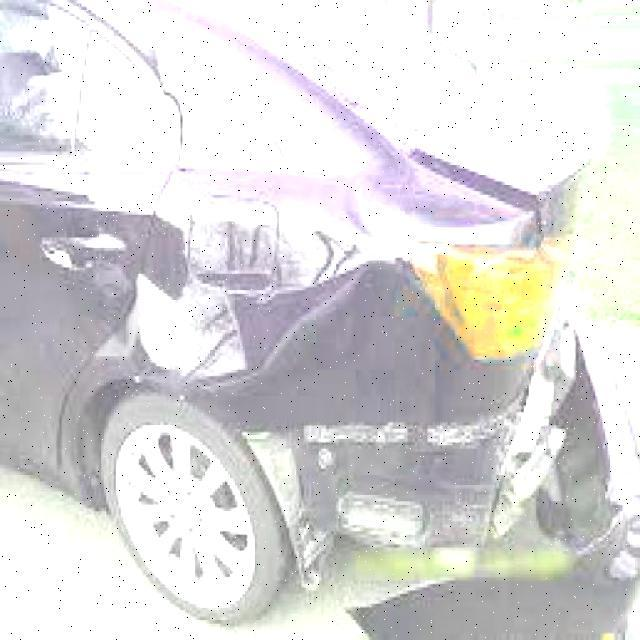car damage: (76, 18, 640, 640)
